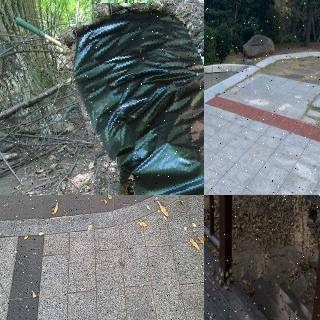Garbage: (75, 0, 204, 195), (306, 208, 318, 228)
